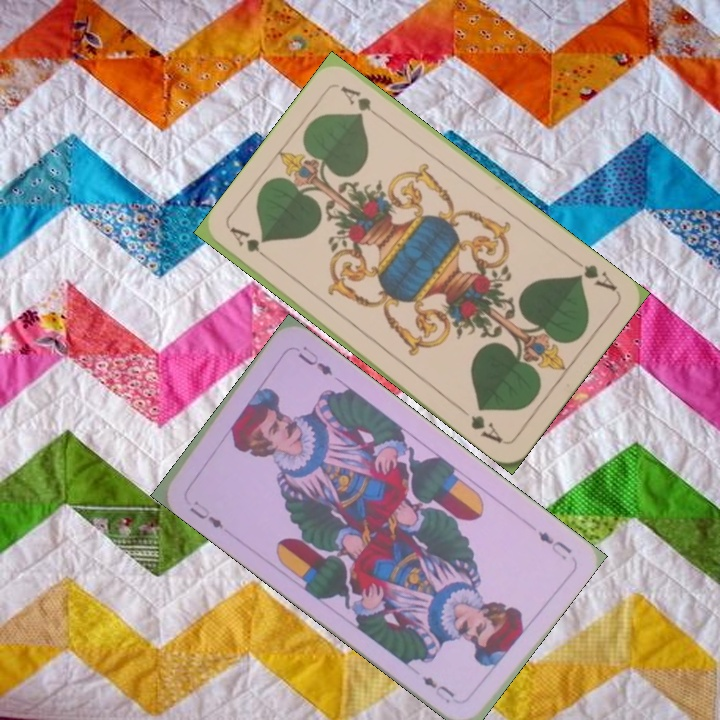EU: (533, 526, 575, 563), (185, 496, 226, 531)
GA: (226, 223, 277, 266), (568, 255, 620, 294)
